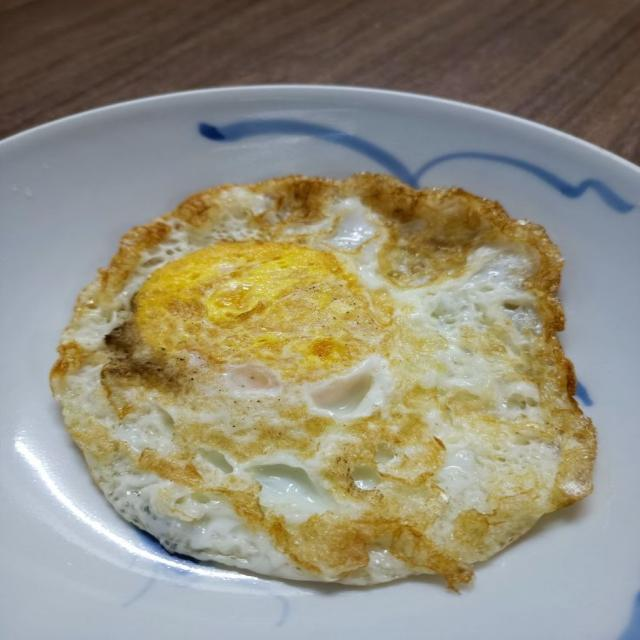fryed egg: (52, 175, 594, 585)
